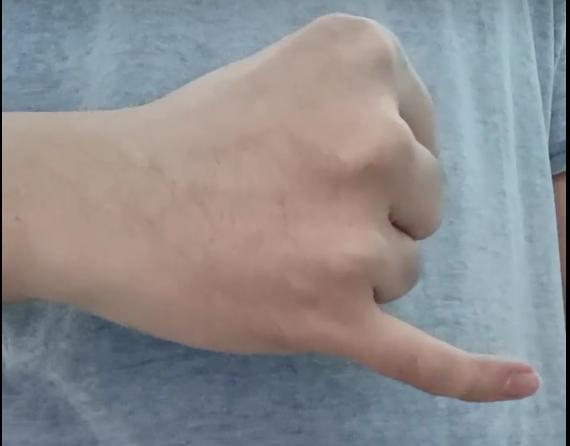j: (0, 12, 542, 404)
